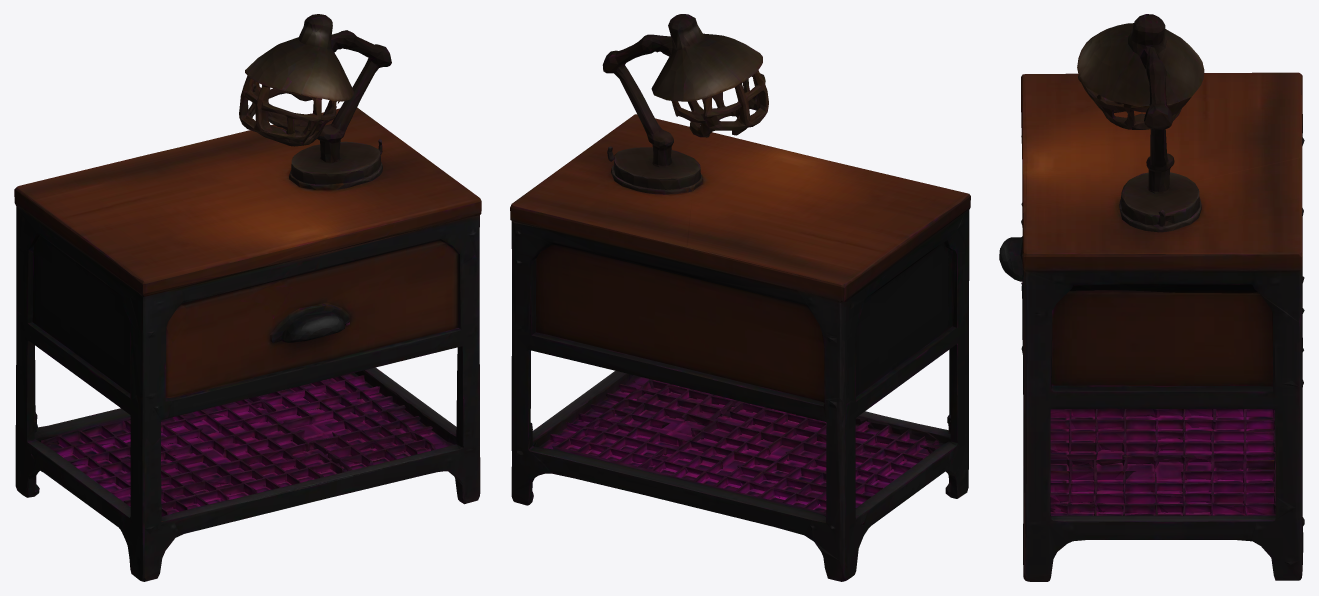
The model's file is nightstand_desk_lamp.glb.
3 renders of one model, left to right at view 1: azimuth 30°, elevation 25°; view 2: azimuth 150°, elevation 25°; view 3: azimuth 270°, elevation 25°, orthographic. The views are drawn at different scales.
Parts seen in each view (by area): view 1: geometry_0; view 2: geometry_0; view 3: geometry_0.
Boxes of the visible parts, bbox=[...] form: geometry_0: bbox=[14, 14, 481, 581]; geometry_0: bbox=[510, 14, 970, 581]; geometry_0: bbox=[999, 14, 1304, 581].
Size of the model in its own units: 0.7628 by 0.9999 by 0.543.
1 material, 1 textured.
